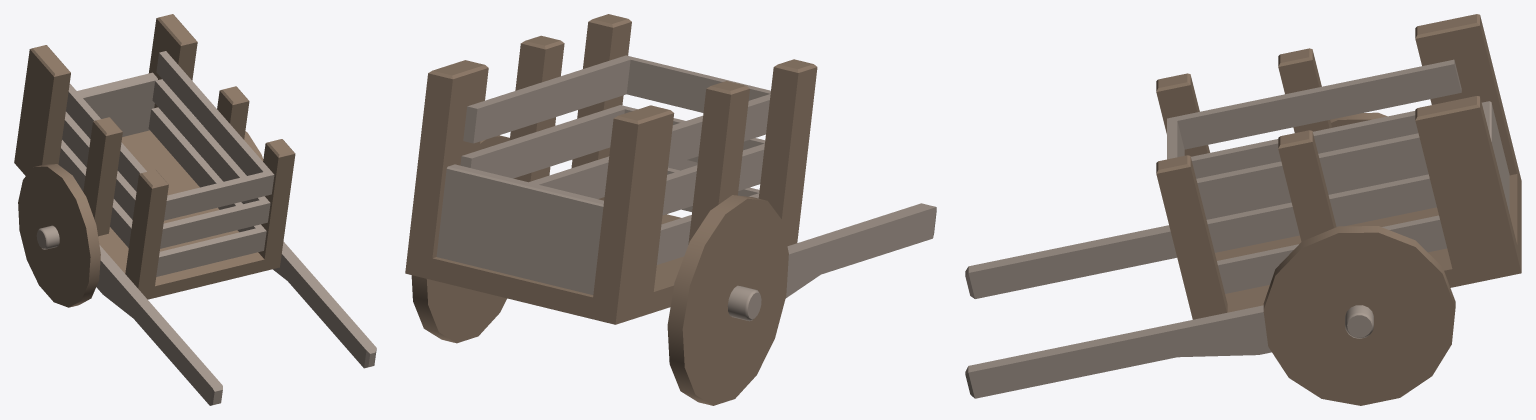
Rendered from Wheelbarrow.fbx.
3 views of the same model, side by side, from view 1: azimuth 30°, elevation 25°; view 2: azimuth 150°, elevation 25°; view 3: azimuth 270°, elevation 25° (orthographic). The views are drawn at different scales.
Parts seen in each view (by area): view 1: base, wheelLeft, topPlank, middelPlank, underPlank, handleLeft, handleRight, backPlank; view 2: base, wheelLeft, backPlank, topPlank, middelPlank, handleLeft, wheelRight, underPlank; view 3: base, wheelRight, topPlank, handleRight, middelPlank, handleLeft, underPlank, backPlank.
Part boxes in pixels (x1,y1,x2,y2): base: [14, 14, 295, 299]; wheelLeft: [18, 164, 100, 307]; topPlank: [66, 51, 274, 220]; middelPlank: [62, 79, 270, 248]; underPlank: [58, 107, 266, 276]; handleLeft: [96, 245, 222, 405]; handleRight: [208, 164, 376, 368]; backPlank: [70, 72, 157, 136]; base: [405, 14, 817, 324]; wheelLeft: [667, 195, 788, 405]; backPlank: [436, 164, 603, 294]; topPlank: [463, 55, 770, 165]; middelPlank: [460, 105, 765, 215]; handleLeft: [785, 203, 936, 298]; wheelRight: [411, 135, 509, 343]; underPlank: [529, 156, 759, 264]; base: [1156, 14, 1521, 319]; wheelRight: [1263, 226, 1455, 405]; topPlank: [1167, 59, 1461, 211]; handleRight: [965, 305, 1271, 398]; middelPlank: [1191, 111, 1436, 252]; handleLeft: [965, 225, 1176, 298]; underPlank: [1204, 166, 1446, 293]; backPlank: [1482, 101, 1509, 213].
Bounding box in the file's own units: 4.87 × 4.76 × 8.38.
